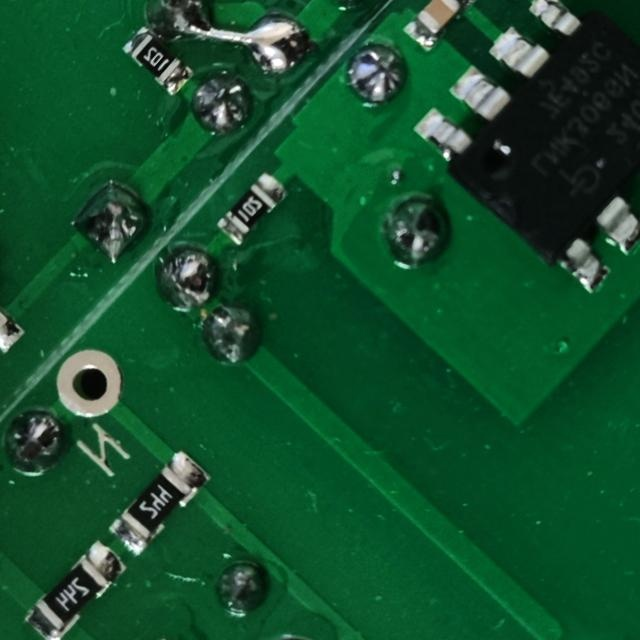chip-capacitor: (399, 0, 482, 55)
chip-resistor: (104, 442, 218, 561), (17, 532, 131, 640), (211, 165, 294, 251), (118, 22, 197, 98)
ic: (403, 0, 640, 299)
